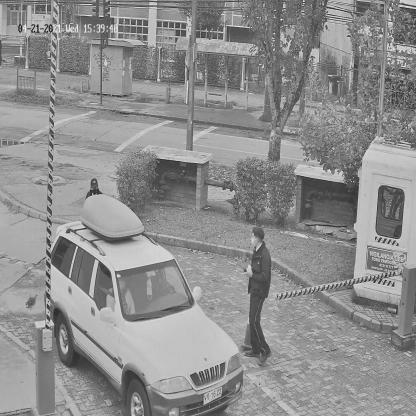Patente: (203, 385, 224, 406)
